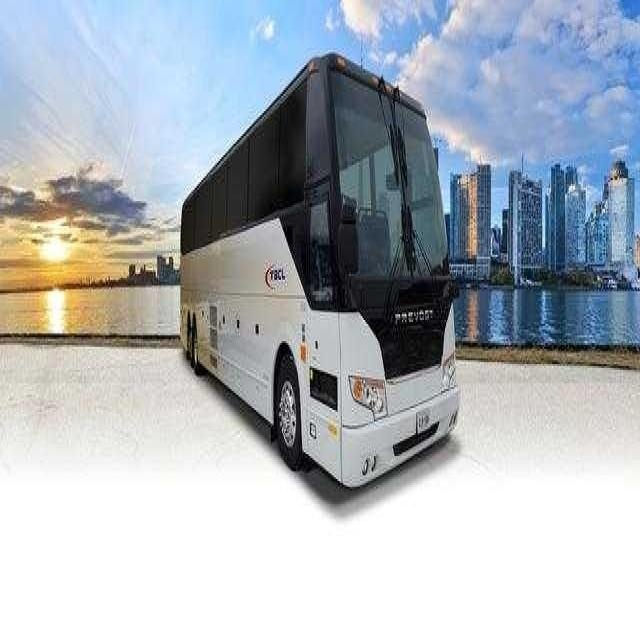Bus: (173, 41, 467, 494)
